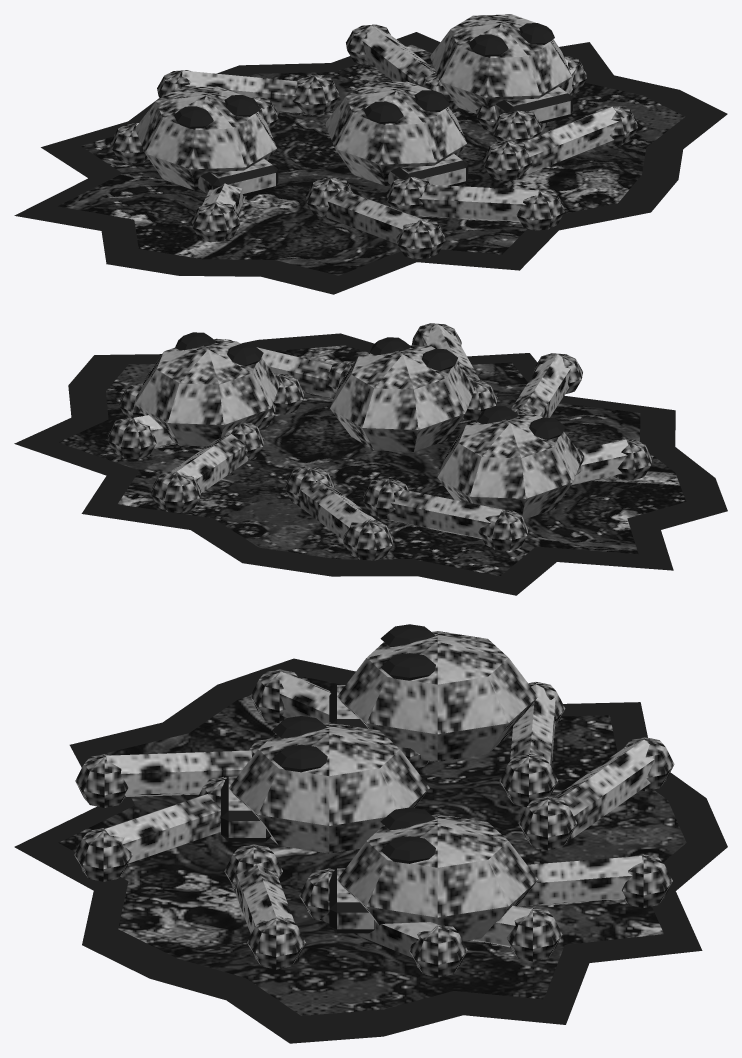
Rendered from corpse_3.glb.
3 views of the same model, one above another, from view 1: azimuth 30°, elevation 25°; view 2: azimuth 150°, elevation 25°; view 3: azimuth 270°, elevation 25° (orthographic). The views are drawn at different scales.
Visible parts, largest first — view 1: Goo puddle.005, Goo puddle.004, Skull.004, Skull.003, Skull.005, Bone.014, Bone.017, Bone.019, Bone.018, Bone.015, Broken jaw.003, Broken jaw.005 (+21 smaller); view 2: Goo puddle.005, Goo puddle.004, Skull.004, Skull.003, Skull.005, Bone.013, Bone.015, Bone.018, Bone.019, Bone.017, Knuckle.031, Knuckle.037 (+20 smaller); view 3: Goo puddle.005, Goo puddle.004, Skull.003, Skull.004, Skull.005, Bone.019, Bone.015, Bone.018, Bone.014, Bone.017, Knuckle.036, Bone.013 (+23 smaller).
Part boxes in pixels (x1,y1,x2,y2): Goo puddle.005: (58, 44, 685, 275); Goo puddle.004: (14, 32, 727, 294); Skull.004: (325, 81, 466, 185); Skull.003: (135, 86, 276, 190); Skull.005: (430, 14, 571, 113); Bone.014: (411, 184, 540, 222); Bone.017: (519, 106, 618, 177); Bone.019: (324, 189, 423, 243); Bone.018: (182, 70, 312, 115); Bone.015: (362, 25, 436, 85); Broken jaw.003: (198, 158, 278, 196); Broken jaw.005: (494, 86, 572, 123); Goo puddle.005: (58, 345, 686, 576); Goo puddle.004: (14, 333, 727, 595); Skull.004: (330, 345, 475, 451); Skull.003: (437, 414, 582, 519); Skull.005: (135, 340, 280, 446); Bone.013: (382, 490, 505, 539); Bone.015: (170, 434, 249, 492); Bone.018: (296, 481, 375, 539); Bone.019: (511, 354, 570, 417); Bone.017: (223, 339, 335, 398); Knuckle.031: (151, 471, 201, 513); Knuckle.037: (343, 520, 393, 560); Goo puddle.005: (58, 677, 686, 1015); Goo puddle.004: (14, 658, 727, 1043); Skull.003: (337, 631, 537, 761); Skull.004: (229, 722, 429, 853); Skull.005: (337, 814, 537, 941); Bone.019: (105, 750, 251, 796); Bone.015: (518, 856, 642, 906); Bone.018: (554, 739, 654, 842); Bone.014: (101, 794, 220, 863); Bone.017: (234, 864, 294, 934); Knuckle.036: (518, 796, 576, 850); Bone.013: (510, 684, 555, 766).
Size of the model in its own units: 0.6076 by 0.081 by 0.4612.
2 materials, 1 textured.
